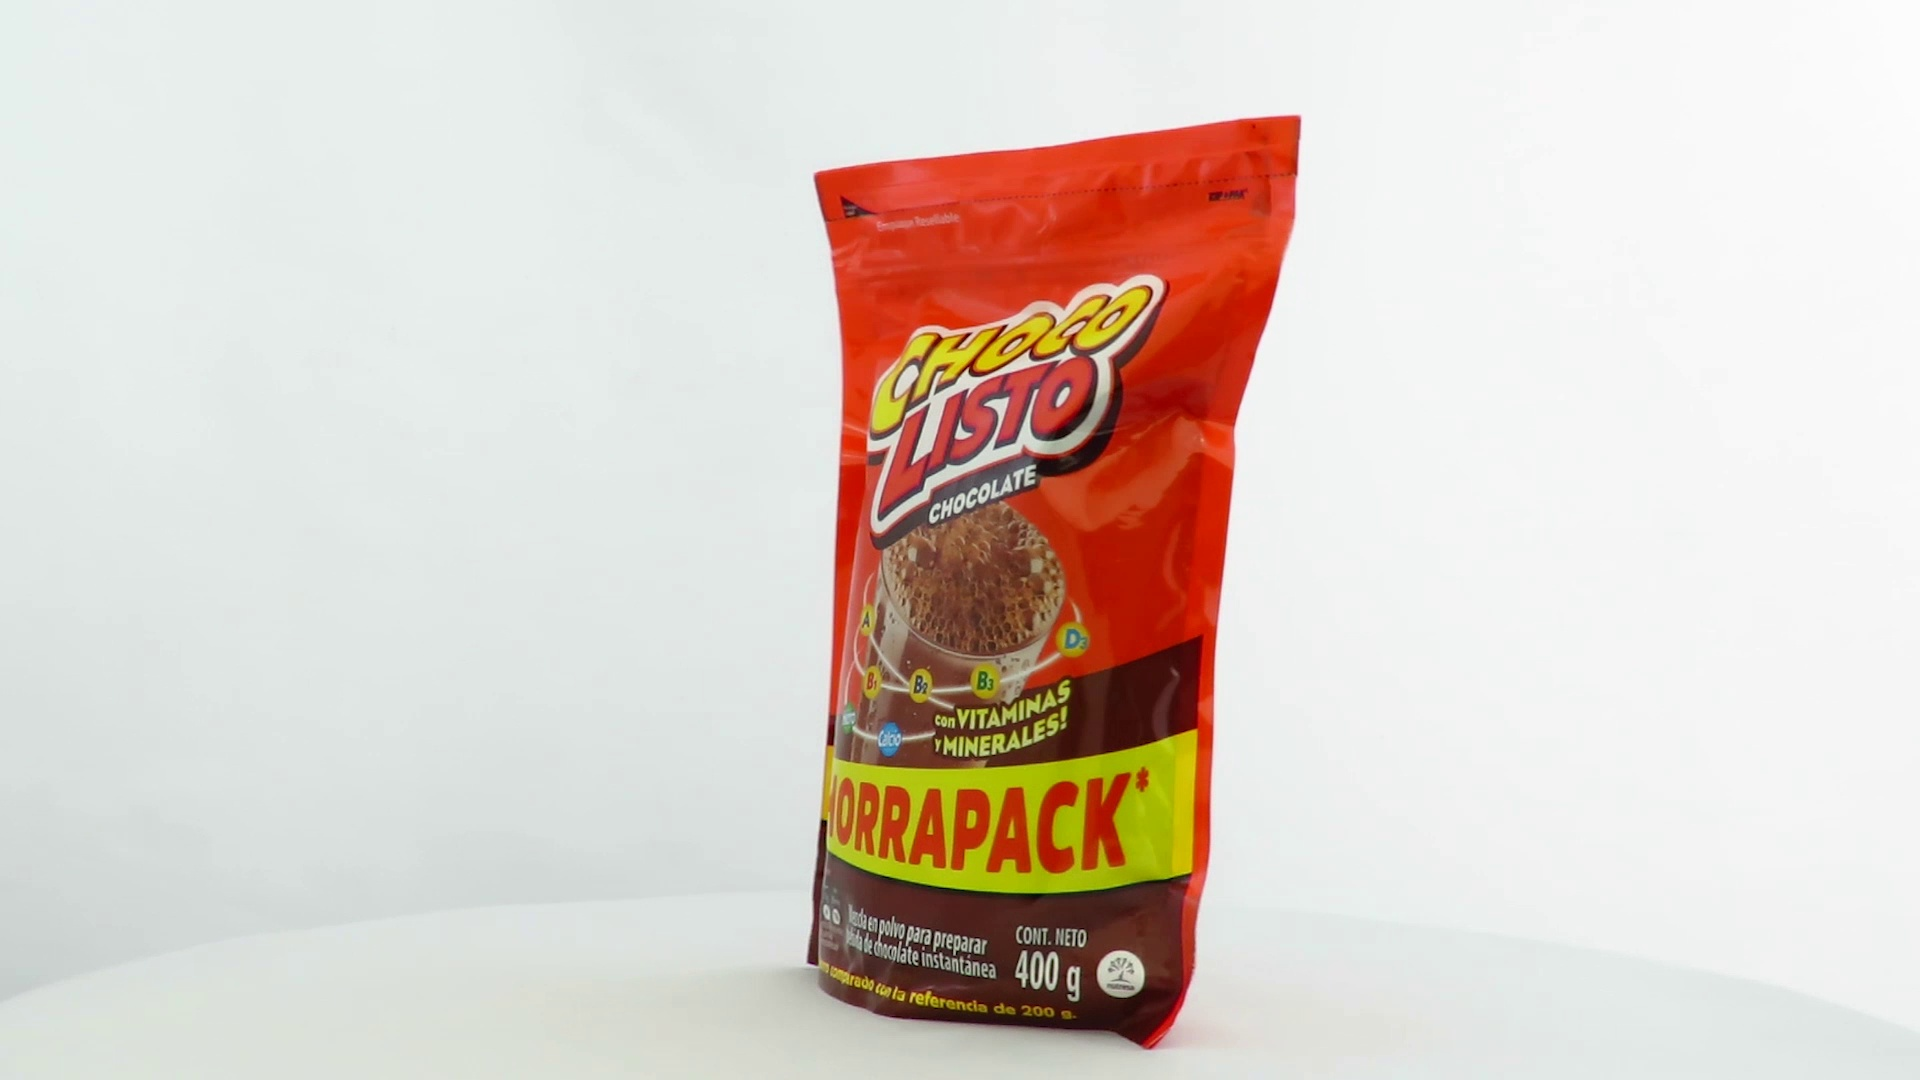COL0170103DYP40000: (802, 109, 1307, 1056)
